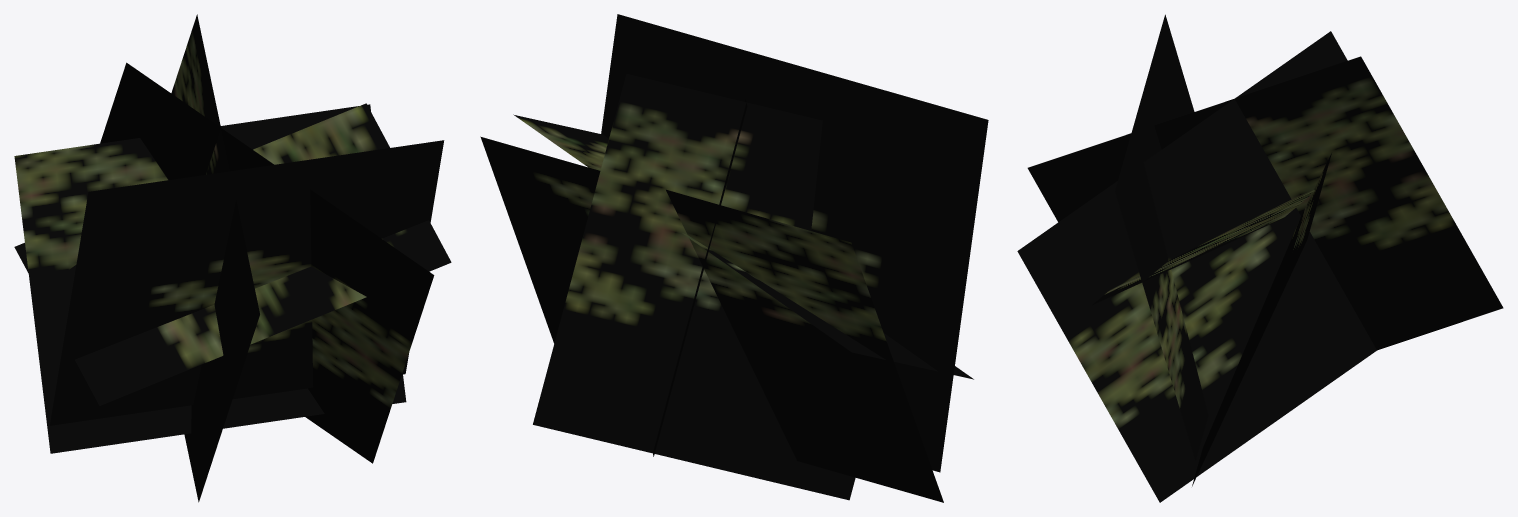
File: pine_leaves_brown_vertical_slab.obj
3 views of the same model, side by side, from view 1: azimuth 30°, elevation 25°; view 2: azimuth 150°, elevation 25°; view 3: azimuth 270°, elevation 25° (orthographic). The views are drawn at different scales.
Visible parts, largest first — view 1: plane; view 2: plane; view 3: plane.
Part boxes in pixels (<box>): plane: <box>14,14,451,502</box>; plane: <box>480,14,988,502</box>; plane: <box>1017,14,1503,502</box>.
Bounding box in the file's own units: 1.82 × 1.98 × 2.13.
